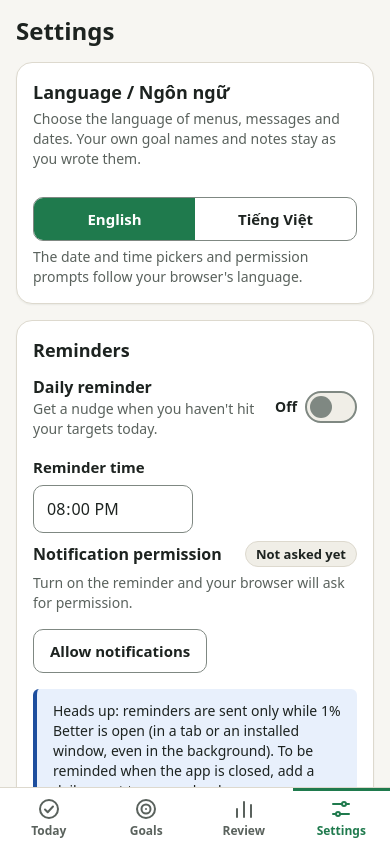
it: Settings (M1-AC10, M1-AC16, M1-AC17) › switching to Tiếng Việt changes the whole page immediately, keeps focus, persists
The image size is (390, 844).
Click the radio button labelled "Tiếng Việt": click(276, 219) 238,209 -> 313,229
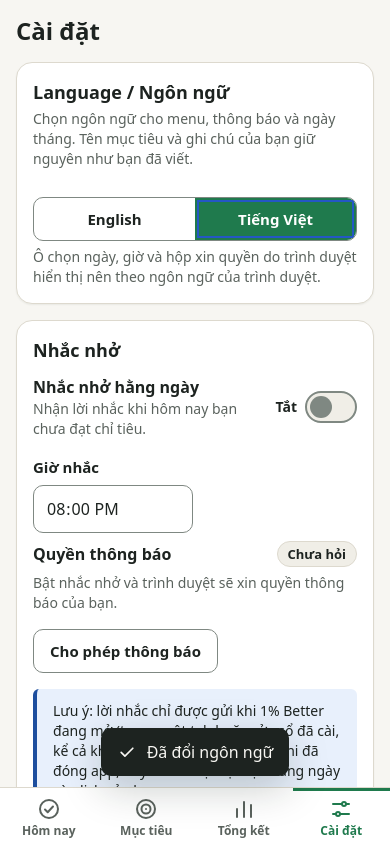
Check: the heading "Cài đặt" is shown, box 16,16 -> 100,46
Check: the link "Hôm nay" is shown, box 22,796 -> 76,838
Check: the message reads "Đã đổi ngôn ngữ", box 147,741 -> 273,763
Click the radio button labelled "English": click(114, 219) 87,209 -> 142,229
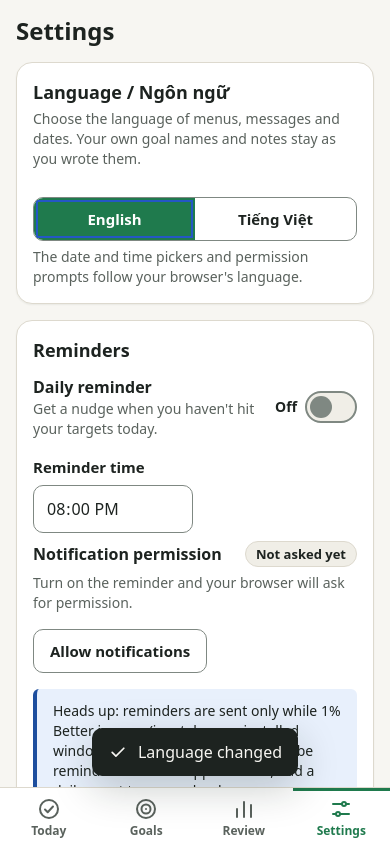
Check: the heading "Settings" is shown, box 16,16 -> 114,46
